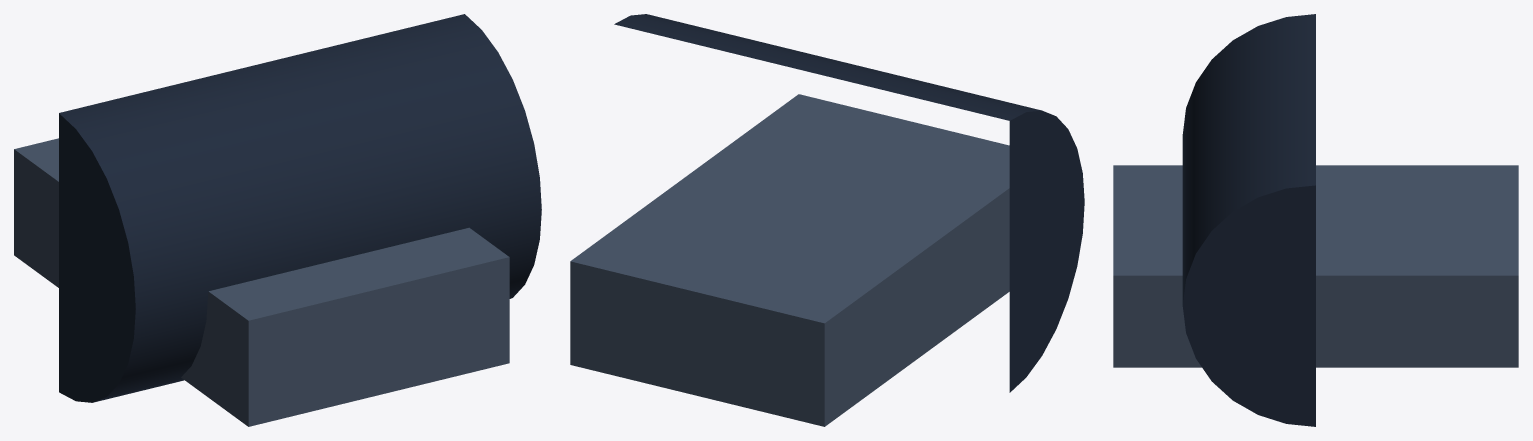
File: hangar.glb
3 renders of one model, left to right at view 1: azimuth 30°, elevation 25°; view 2: azimuth 150°, elevation 25°; view 3: azimuth 270°, elevation 25°, orthographic. The views are drawn at different scales.
Size of the model in its own units: 28 by 18.4 by 28.
